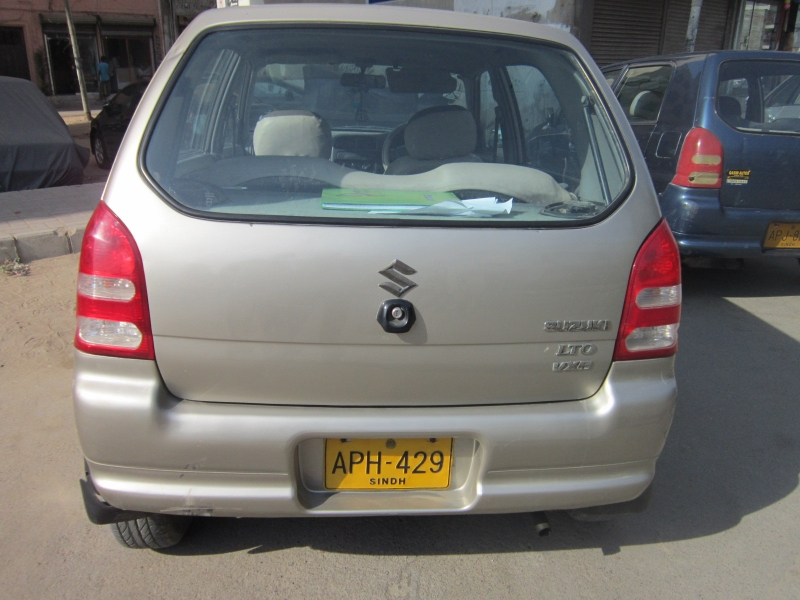Number Plate (Car): (324, 439, 452, 491)
